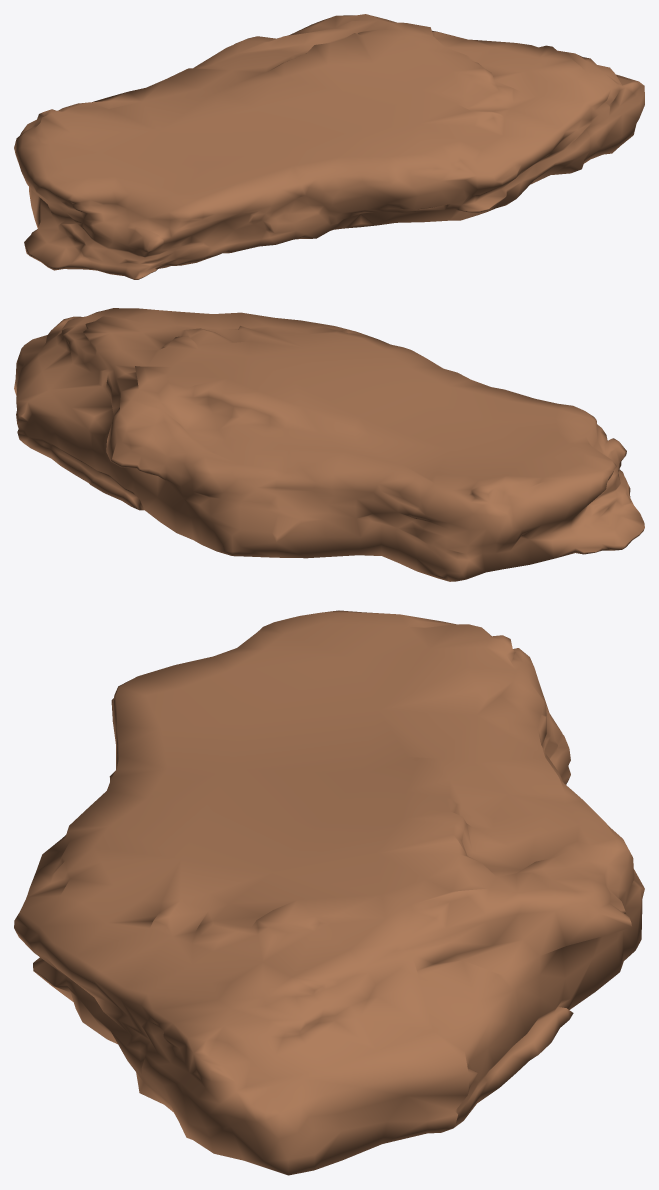
File: MSH_Rocks_Boulder_25.FBX
The picture shows the model from 3 angles, top to bottom: view 1: azimuth 30°, elevation 25°; view 2: azimuth 150°, elevation 25°; view 3: azimuth 270°, elevation 25°; orthographic projection. The views are drawn at different scales.
Visible parts, largest first — view 1: MESH_LOD0; view 2: MESH_LOD0; view 3: MESH_LOD0.
Boxes of the visible parts, bbox=[...] form: MESH_LOD0: bbox=[14, 14, 644, 279]; MESH_LOD0: bbox=[14, 308, 644, 581]; MESH_LOD0: bbox=[14, 610, 644, 1175].
Size of what is drawn, in the model's own units: 279 by 52.04 by 159.
